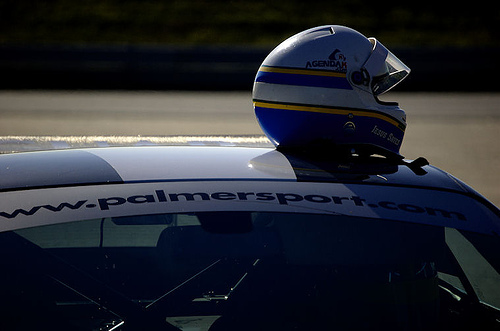helmet: (258, 38, 406, 159)
